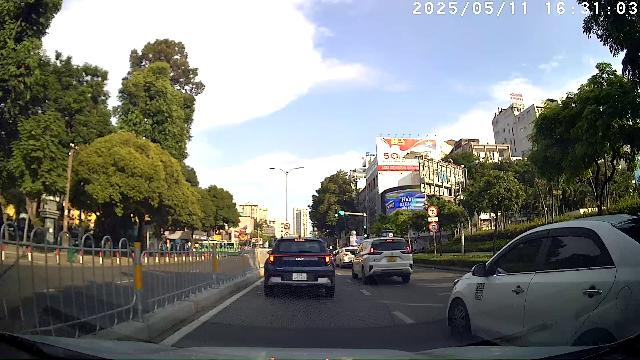103b-cam-oto-re-phai: (429, 222, 439, 232)
